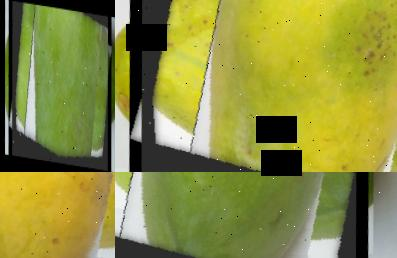PartiallyRipe: (125, 0, 397, 172)
Ripe: (0, 172, 115, 258)
Unripe: (115, 172, 370, 258), (7, 1, 112, 172)
